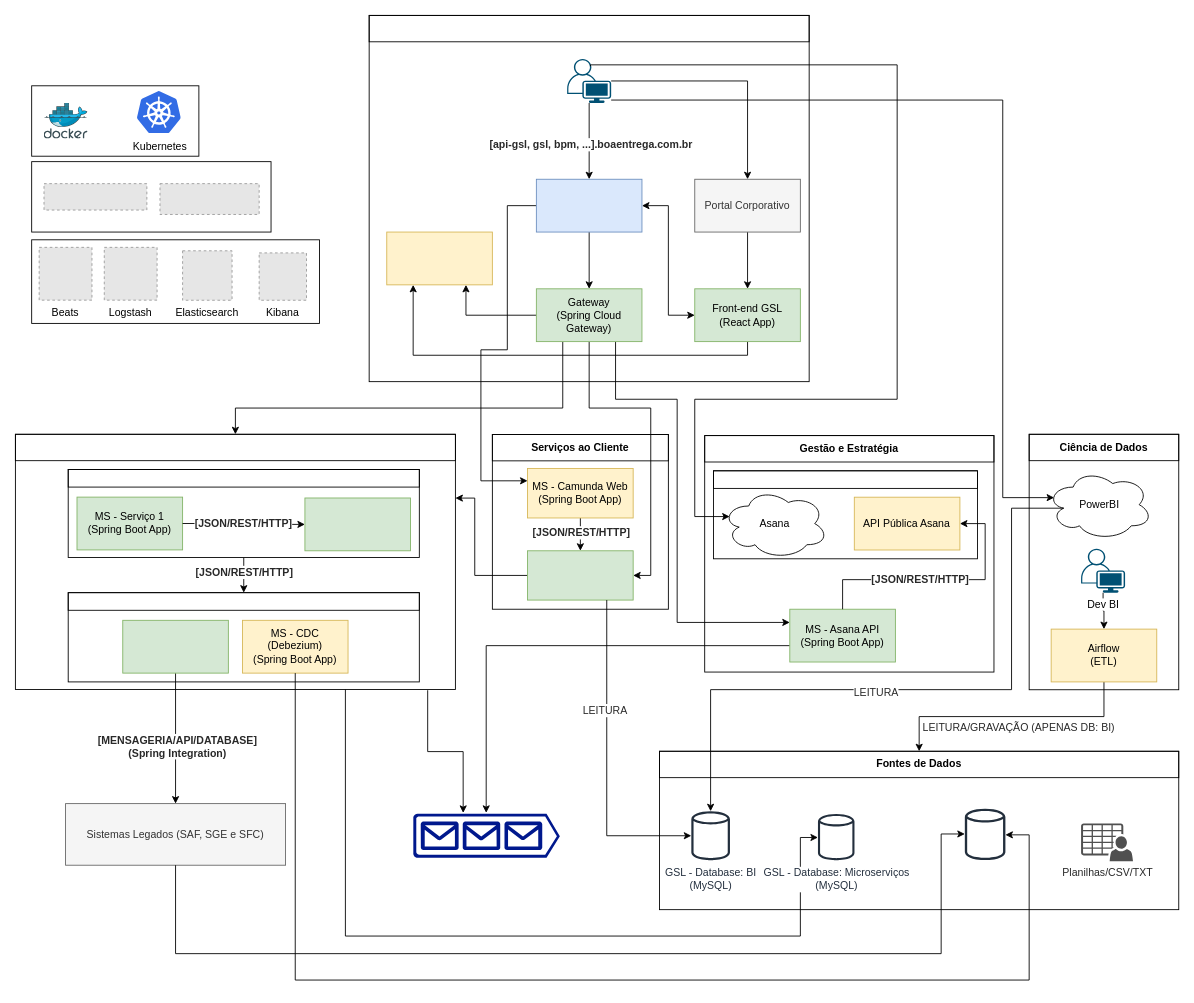
This 1194x1003 diagram has some shape labels left out. Grey dashed boxes stand in for pictures. The centre of each missing label's shape, as x and y in pixels:
Cliente: (x=588, y=28)
Databases: SAF, SGE e SFC (SQLServer e MySQL): (x=984, y=834)
Ferramenta externa: (x=845, y=479)
Informações Cadastrais: (x=235, y=447)
Integração com sistemas legados: (x=243, y=601)
Keycloak (Autenticação e Autorização): (x=439, y=258)
Microserviços: (x=243, y=478)
MS - Camunda API (Spring Boot App): (x=580, y=575)
MS - Middleware 1..n (Spring Boot App): (x=175, y=646)
MS - Serviço n (Spring Boot App): (x=357, y=524)
Nginx Ingress Controller: (x=588, y=205)
RabbitMQ: (x=486, y=835)
Usuário: (x=589, y=81)
